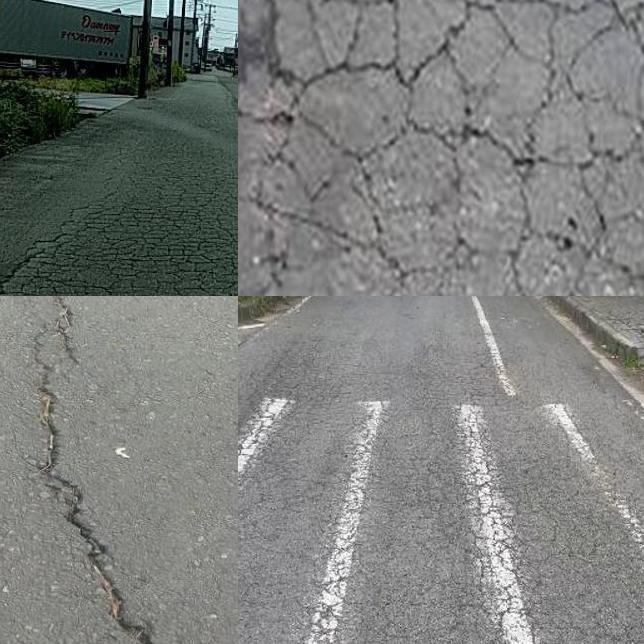Memanjang: (21, 296, 188, 644)
Retak Buaya: (238, 0, 644, 296), (322, 468, 644, 644), (12, 161, 238, 296)
